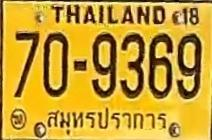0: (43, 32, 68, 96)
3: (119, 32, 144, 98)
6: (148, 32, 173, 98)
7: (14, 31, 40, 97)
9: (176, 32, 202, 98), (91, 31, 116, 98)
SPK: (45, 105, 169, 134)
